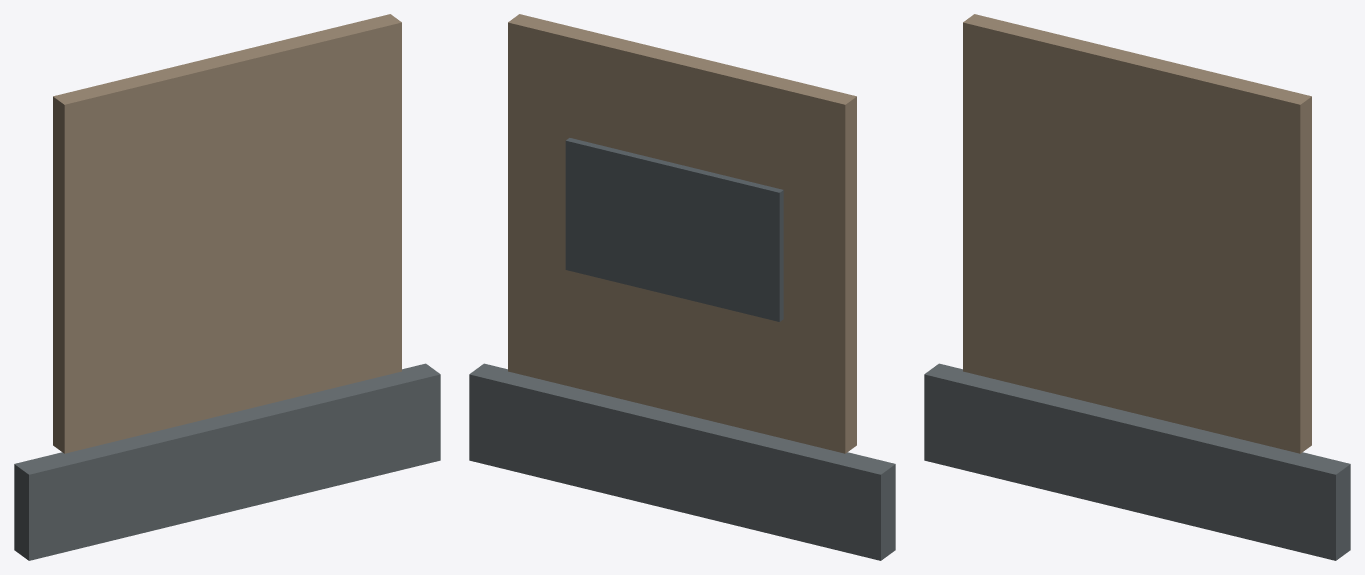
Rendered from iz3_health_screen_02.glb.
3 views of the same model, side by side, from view 1: azimuth 30°, elevation 25°; view 2: azimuth 150°, elevation 25°; view 3: azimuth 330°, elevation 25° (orthographic).
Parts seen in each view (by area): view 1: cabinet, base; view 2: cabinet, base, panel; view 3: cabinet, base.
Boxes of the visible parts, bbox=[...] form: cabinet: bbox=[53, 14, 401, 453]; base: bbox=[14, 363, 440, 560]; cabinet: bbox=[508, 14, 856, 453]; base: bbox=[469, 363, 895, 560]; panel: bbox=[565, 138, 783, 321]; cabinet: bbox=[963, 14, 1311, 453]; base: bbox=[924, 363, 1350, 560].
Bounding box in the file's own units: 1.6 × 1.66 × 0.116.
